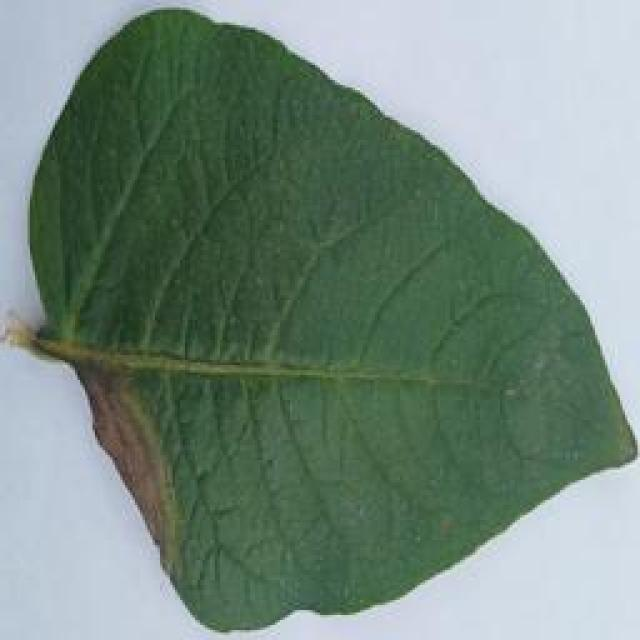Potato_Late_Blight: (10, 8, 626, 630)
